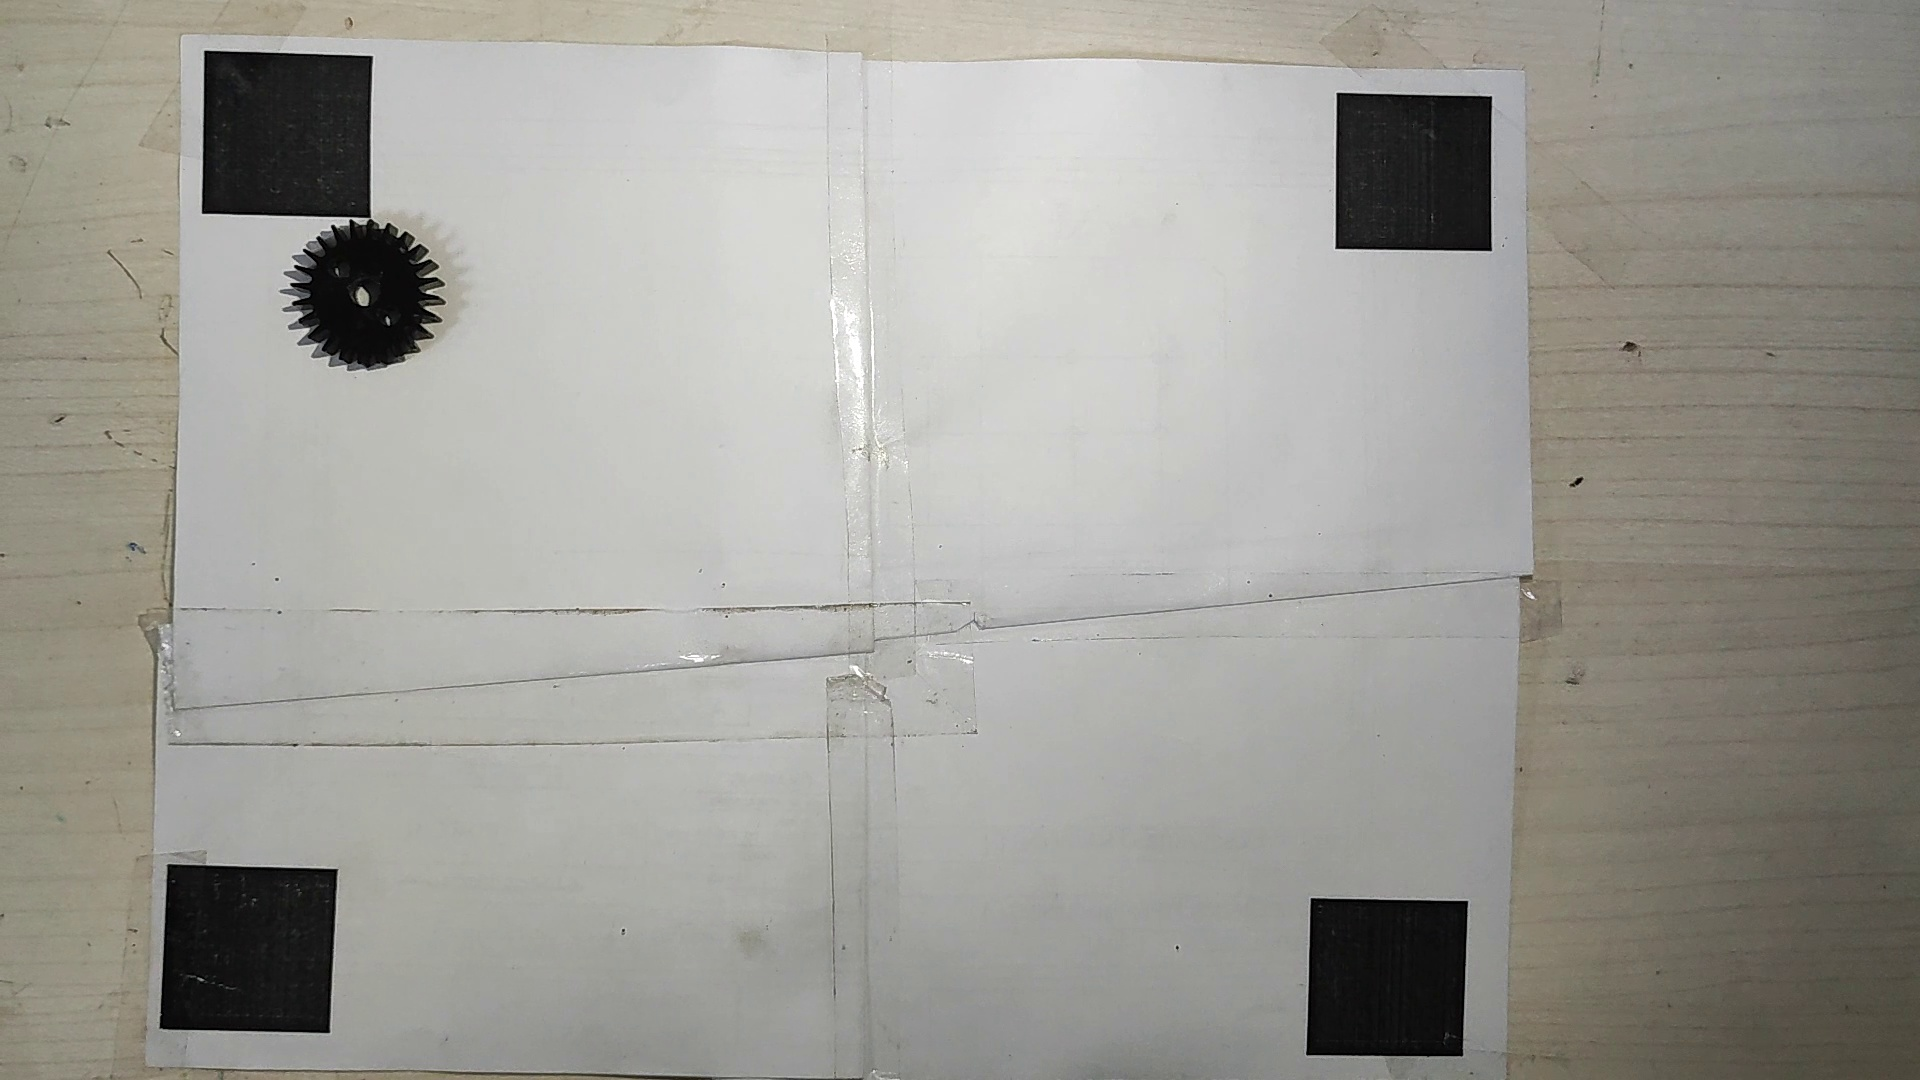Gear: (286, 218, 455, 377)
